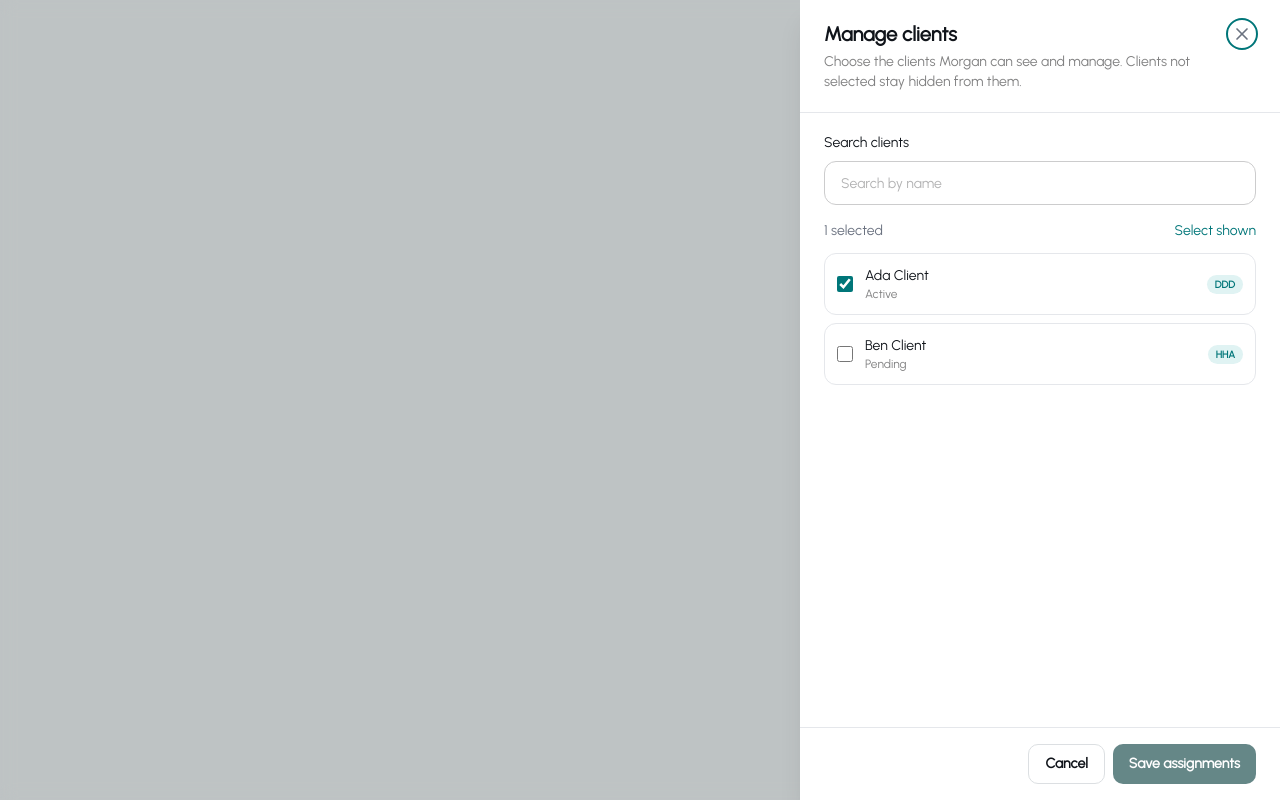
it: searches clients and saves the selected IDs with the original selection
Later steps or results of the test are not shown.
Expected: the checkbox labelled "Ada Client active ddd" is checked, [837,276,853,292]
Type "ben" into the field labelled "Search clients". click: (1040, 183)
box: [824,161,1256,205]
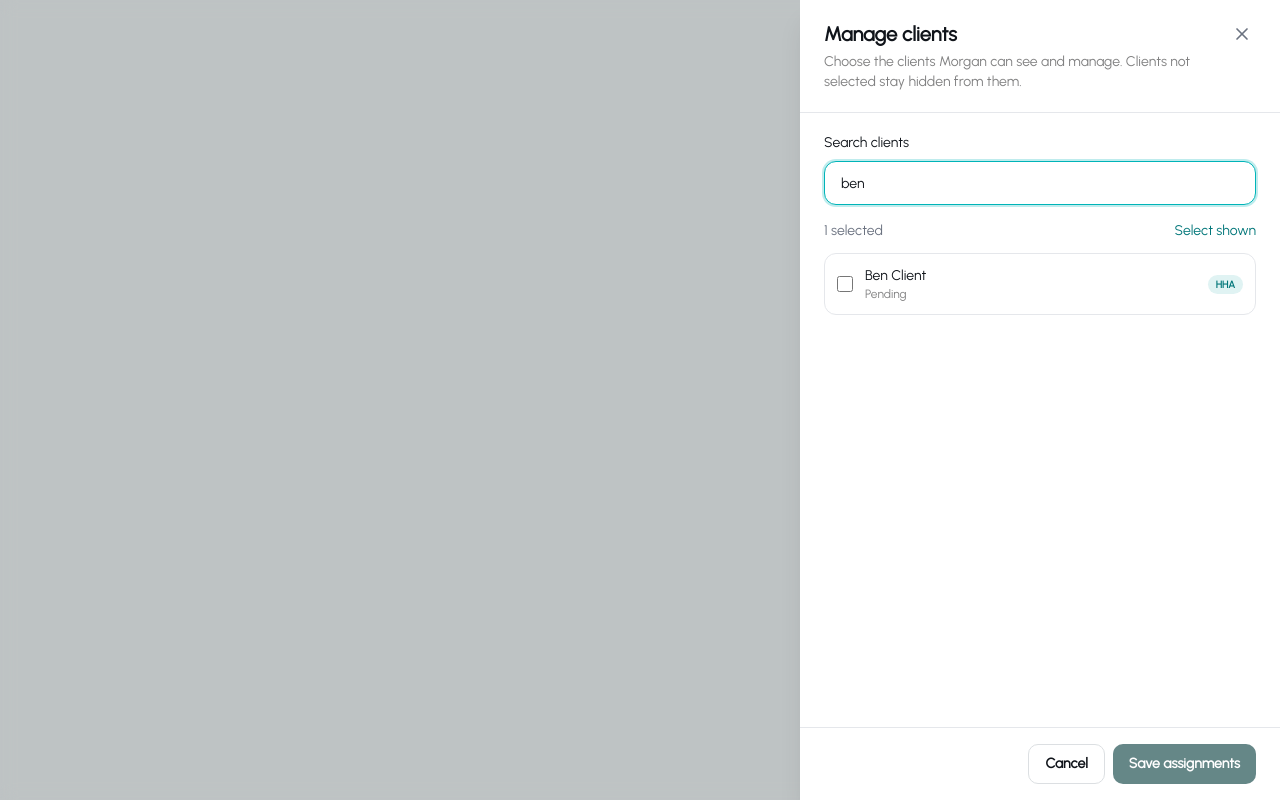
Result: the text "Ada Client" is gone
